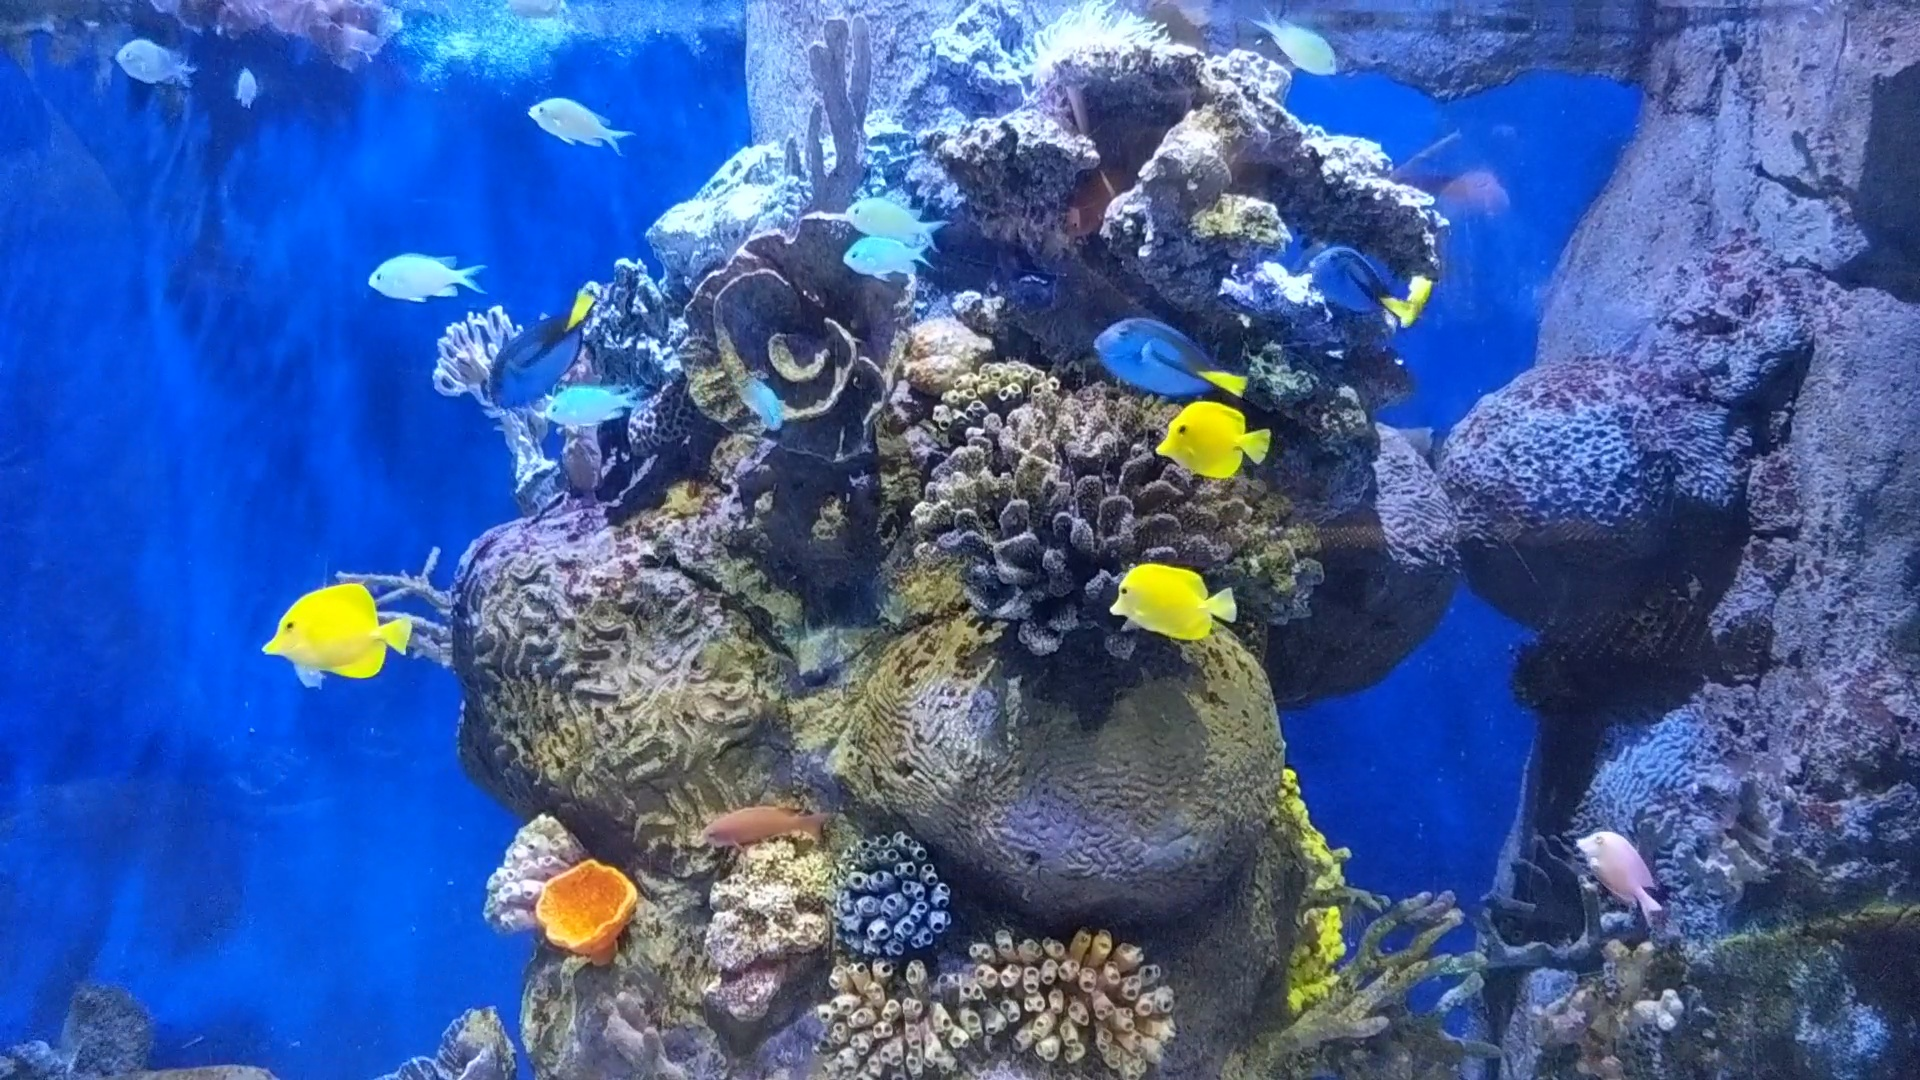blue tang surgeonfish: (1095, 310, 1262, 400), (472, 291, 604, 404), (1290, 249, 1428, 334)
damselfish: (357, 239, 491, 314), (518, 84, 636, 157), (103, 32, 214, 98), (843, 177, 945, 245), (522, 368, 642, 422), (841, 222, 935, 286), (1258, 21, 1342, 79), (742, 376, 796, 434), (225, 57, 268, 113)
pink fish: (1576, 815, 1668, 920)
saddle butterfly fish: (251, 570, 422, 698), (1143, 394, 1278, 488), (1105, 560, 1242, 650)
